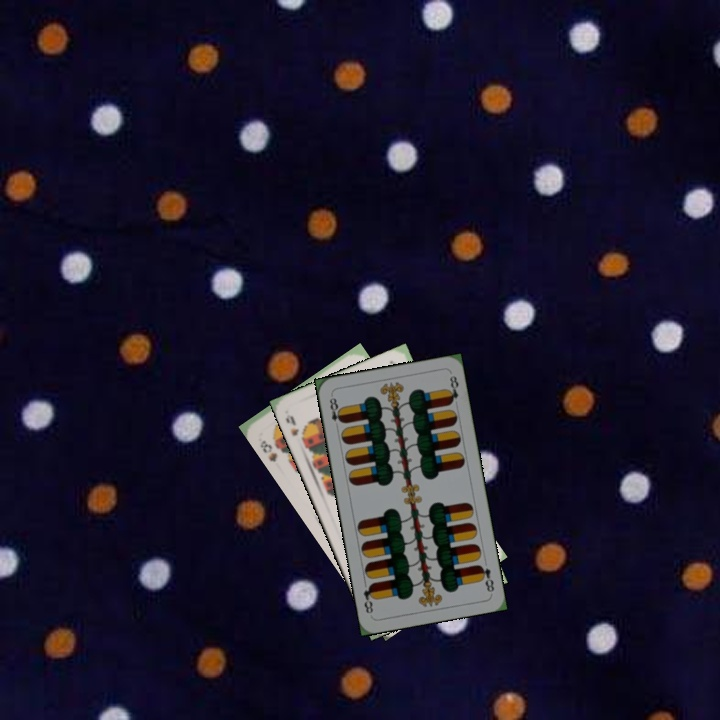E8: (326, 392, 346, 432), (474, 561, 497, 595)
S8: (256, 436, 280, 465)
S9: (281, 411, 309, 446)
